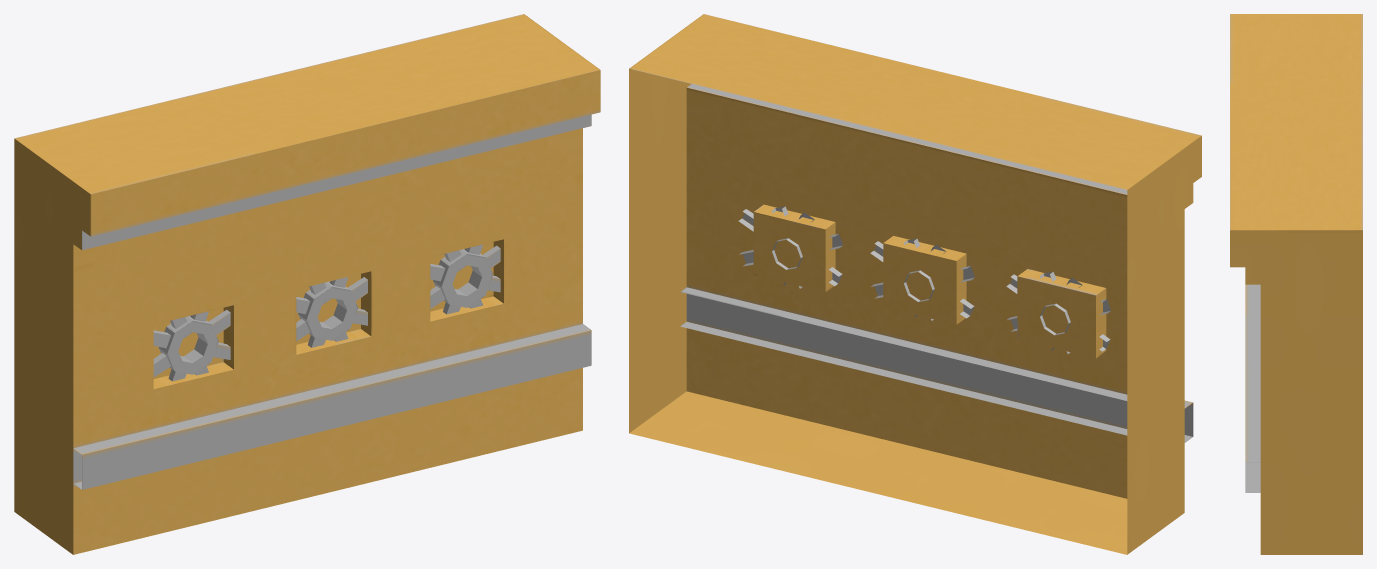
The model's file is ParapeitoSuperior.fbx.
3 renders of one model, left to right at view 1: azimuth 30°, elevation 25°; view 2: azimuth 150°, elevation 25°; view 3: azimuth 270°, elevation 25°, orthographic. The views are drawn at different scales.
Parts seen in each view (by area): view 1: ParapeitoSuperior; view 2: ParapeitoSuperior; view 3: ParapeitoSuperior.
Boxes of the visible parts, <box> form: ParapeitoSuperior: <box>14,14,600,554</box>; ParapeitoSuperior: <box>629,14,1201,554</box>; ParapeitoSuperior: <box>1230,14,1362,554</box>.
Size of the model in its own units: 100 by 70 by 25.96.
